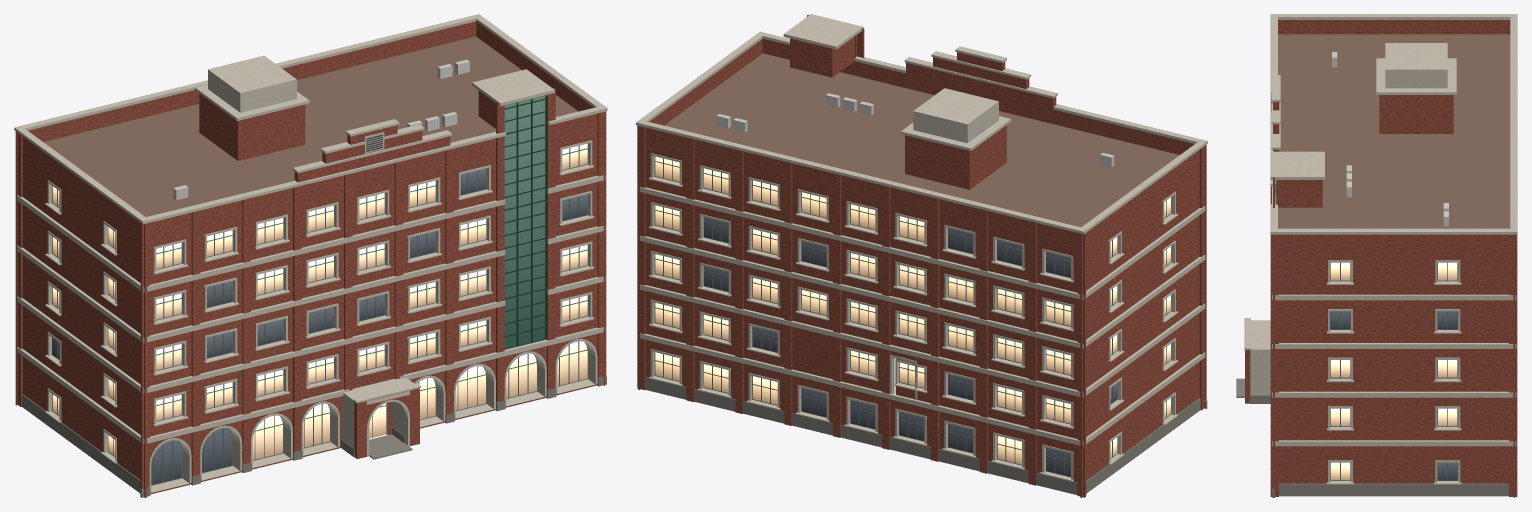
Rendered from campus_putong.glb.
3 renders of one model, left to right at view 1: azimuth 30°, elevation 25°; view 2: azimuth 150°, elevation 25°; view 3: azimuth 270°, elevation 25°, orthographic. The views are drawn at different scales.
Parts seen in each view (by area): view 1: wz_vc_pt, pt_glass; view 2: wz_vc_pt, pt_glass; view 3: wz_vc_pt, pt_glass.
Part boxes in pixels (x1=…): wz_vc_pt: x1=14, y1=14, x2=607, y2=497; pt_glass: x1=52, y1=96, x2=587, y2=484; wz_vc_pt: x1=636, y1=14, x2=1207, y2=497; pt_glass: x1=655, y1=156, x2=1170, y2=476; wz_vc_pt: x1=1236, y1=14, x2=1517, y2=497; pt_glass: x1=1330, y1=262, x2=1457, y2=480.
Bounding box in the file's own units: 34.64 × 23 × 18.9.
4 materials, 1 textured.
